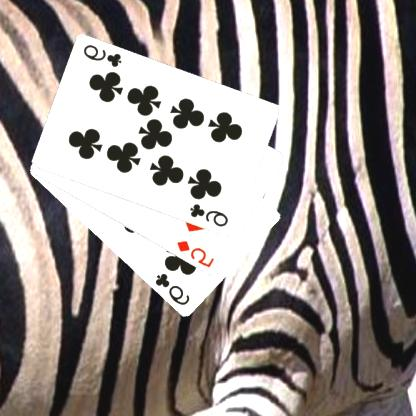5D: (176, 238, 218, 269)
6C: (154, 270, 193, 308)
9C: (188, 201, 232, 229), (82, 42, 126, 69)
